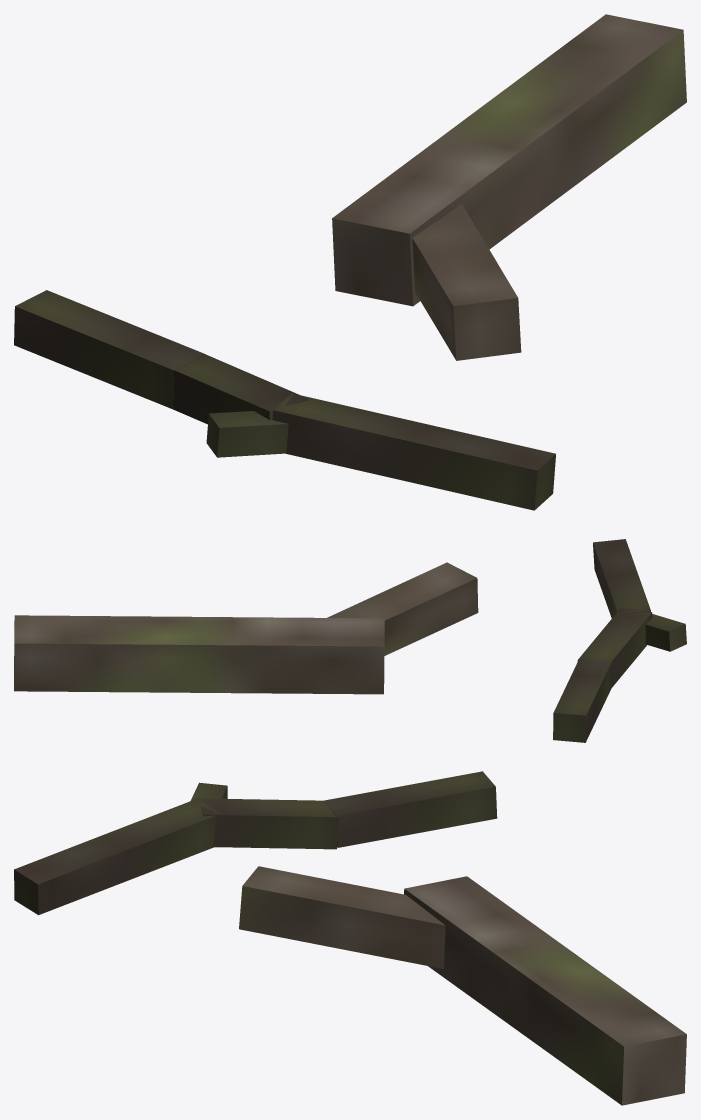
Rendered from floortwig_2.obj.
The picture shows the model from 3 angles, top to bottom: view 1: azimuth 30°, elevation 25°; view 2: azimuth 150°, elevation 25°; view 3: azimuth 270°, elevation 25°; orthographic projection. The views are drawn at different scales.
Visible parts, largest first — view 1: cube; view 2: cube; view 3: cube.
Boxes of the visible parts, x1,y1,x2,y2 form: cube: [14, 14, 686, 510]; cube: [14, 539, 686, 742]; cube: [14, 771, 686, 1105].
Size of the model in its own units: 1.3 by 0.1357 by 1.24.
